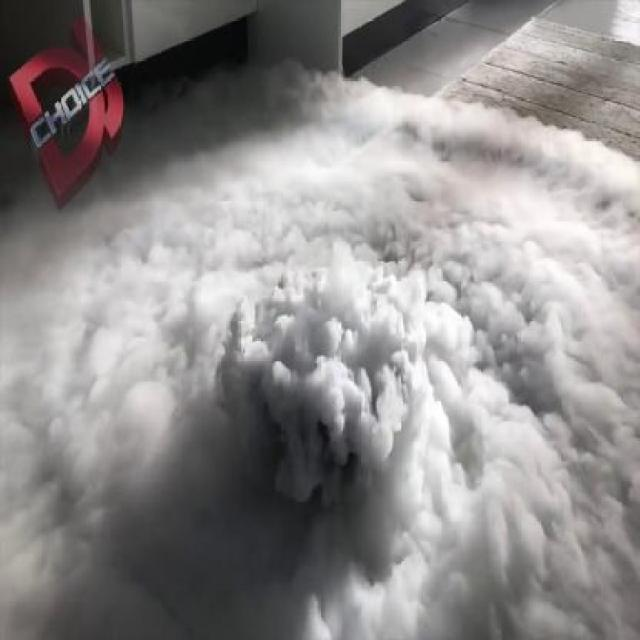smoke: (9, 143, 640, 640)
